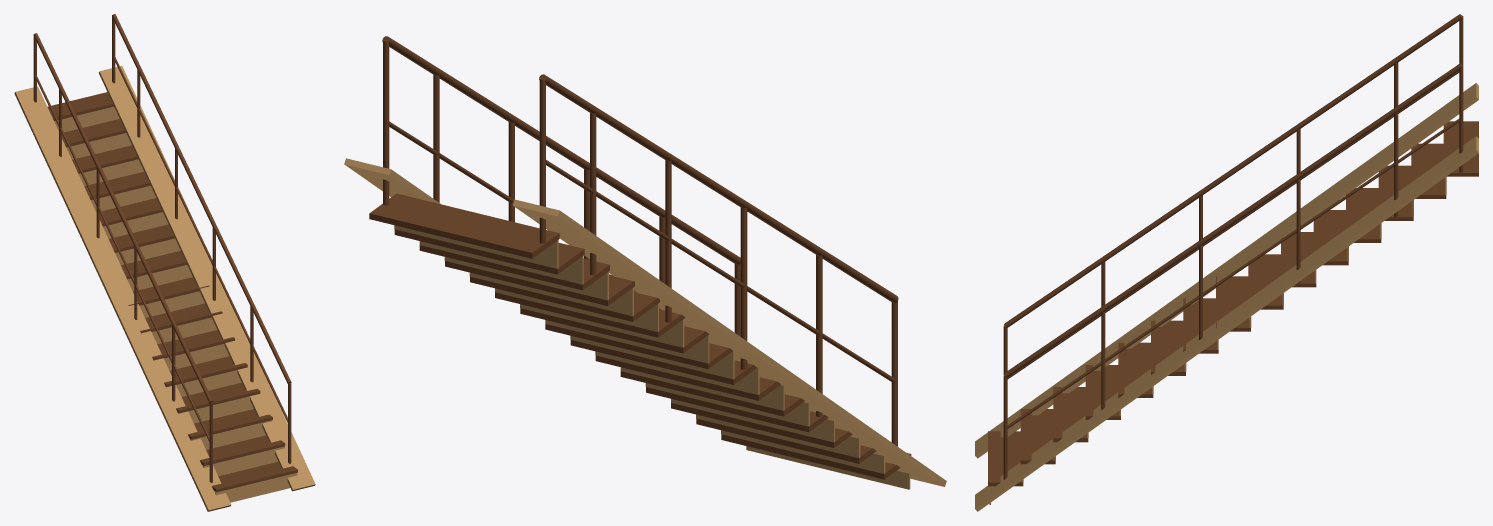
File: circulation.stair.timber.glb
The picture shows the model from 3 angles, left to right: view 1: azimuth 30°, elevation 25°; view 2: azimuth 150°, elevation 25°; view 3: azimuth 270°, elevation 25°; orthographic projection. The views are drawn at different scales.
Parts seen in each view (by area): view 1: flight__softwood, flight__hardwood, balustrade__hardwood; view 2: flight__softwood, flight__hardwood, balustrade__hardwood; view 3: flight__hardwood, flight__softwood, balustrade__hardwood.
Boxes of the visible parts, bbox=[...] form: flight__softwood: bbox=[14, 66, 315, 511]; flight__hardwood: bbox=[47, 92, 297, 492]; balustrade__hardwood: bbox=[33, 14, 291, 482]; flight__softwood: bbox=[344, 158, 946, 489]; flight__hardwood: bbox=[369, 193, 911, 479]; balustrade__hardwood: bbox=[382, 36, 898, 464]; flight__hardwood: bbox=[988, 121, 1478, 486]; flight__softwood: bbox=[975, 83, 1478, 511]; balustrade__hardwood: bbox=[1003, 14, 1463, 479].
Size of the model in its own units: 1.23 by 3.73 by 3.87.
